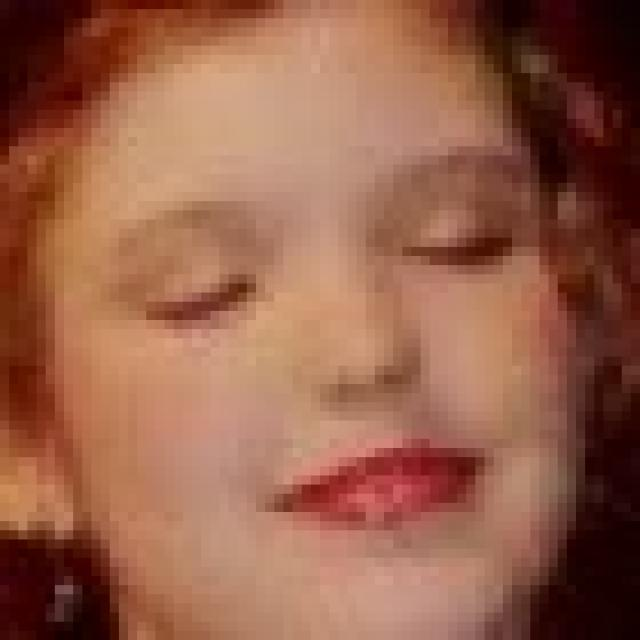Eyeclosed: (144, 265, 255, 342), (403, 213, 508, 283)
